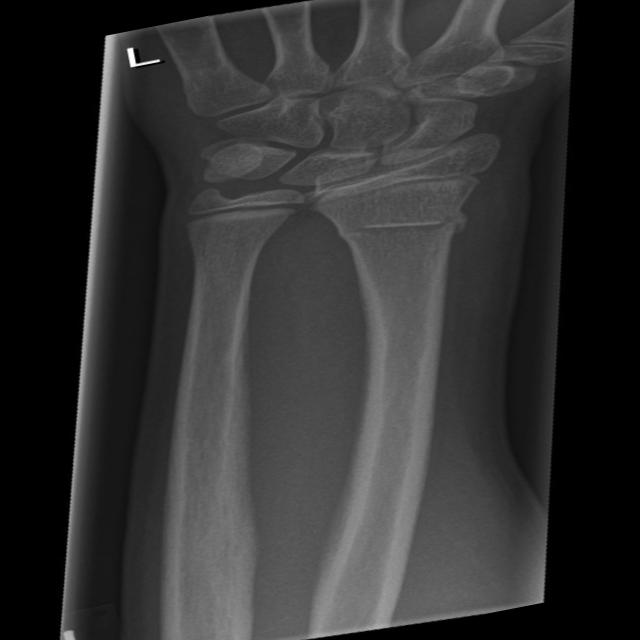fracture: (299, 147, 516, 223), (324, 194, 496, 259), (175, 176, 317, 240)
